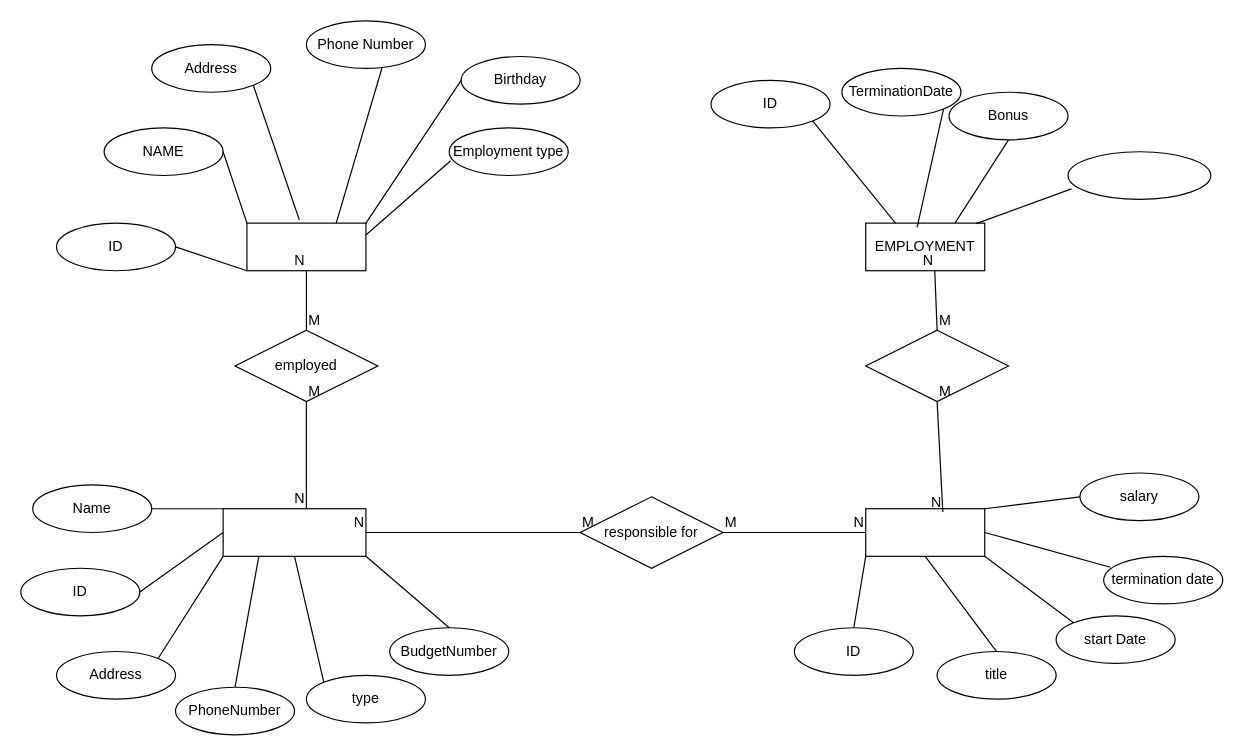
This 1244x756 diagram has some shape labels left out. The shapes that lost their labels are listed below. From the top down, each one's box as (x1, y1, x2, y2) in pixels, then its label:
(1067, 151, 1211, 199): employmentDate
(246, 222, 366, 271): PERSON
(865, 329, 1009, 402): Held by
(222, 508, 366, 556): ORGANIZATION
(865, 508, 985, 556): POSITION
